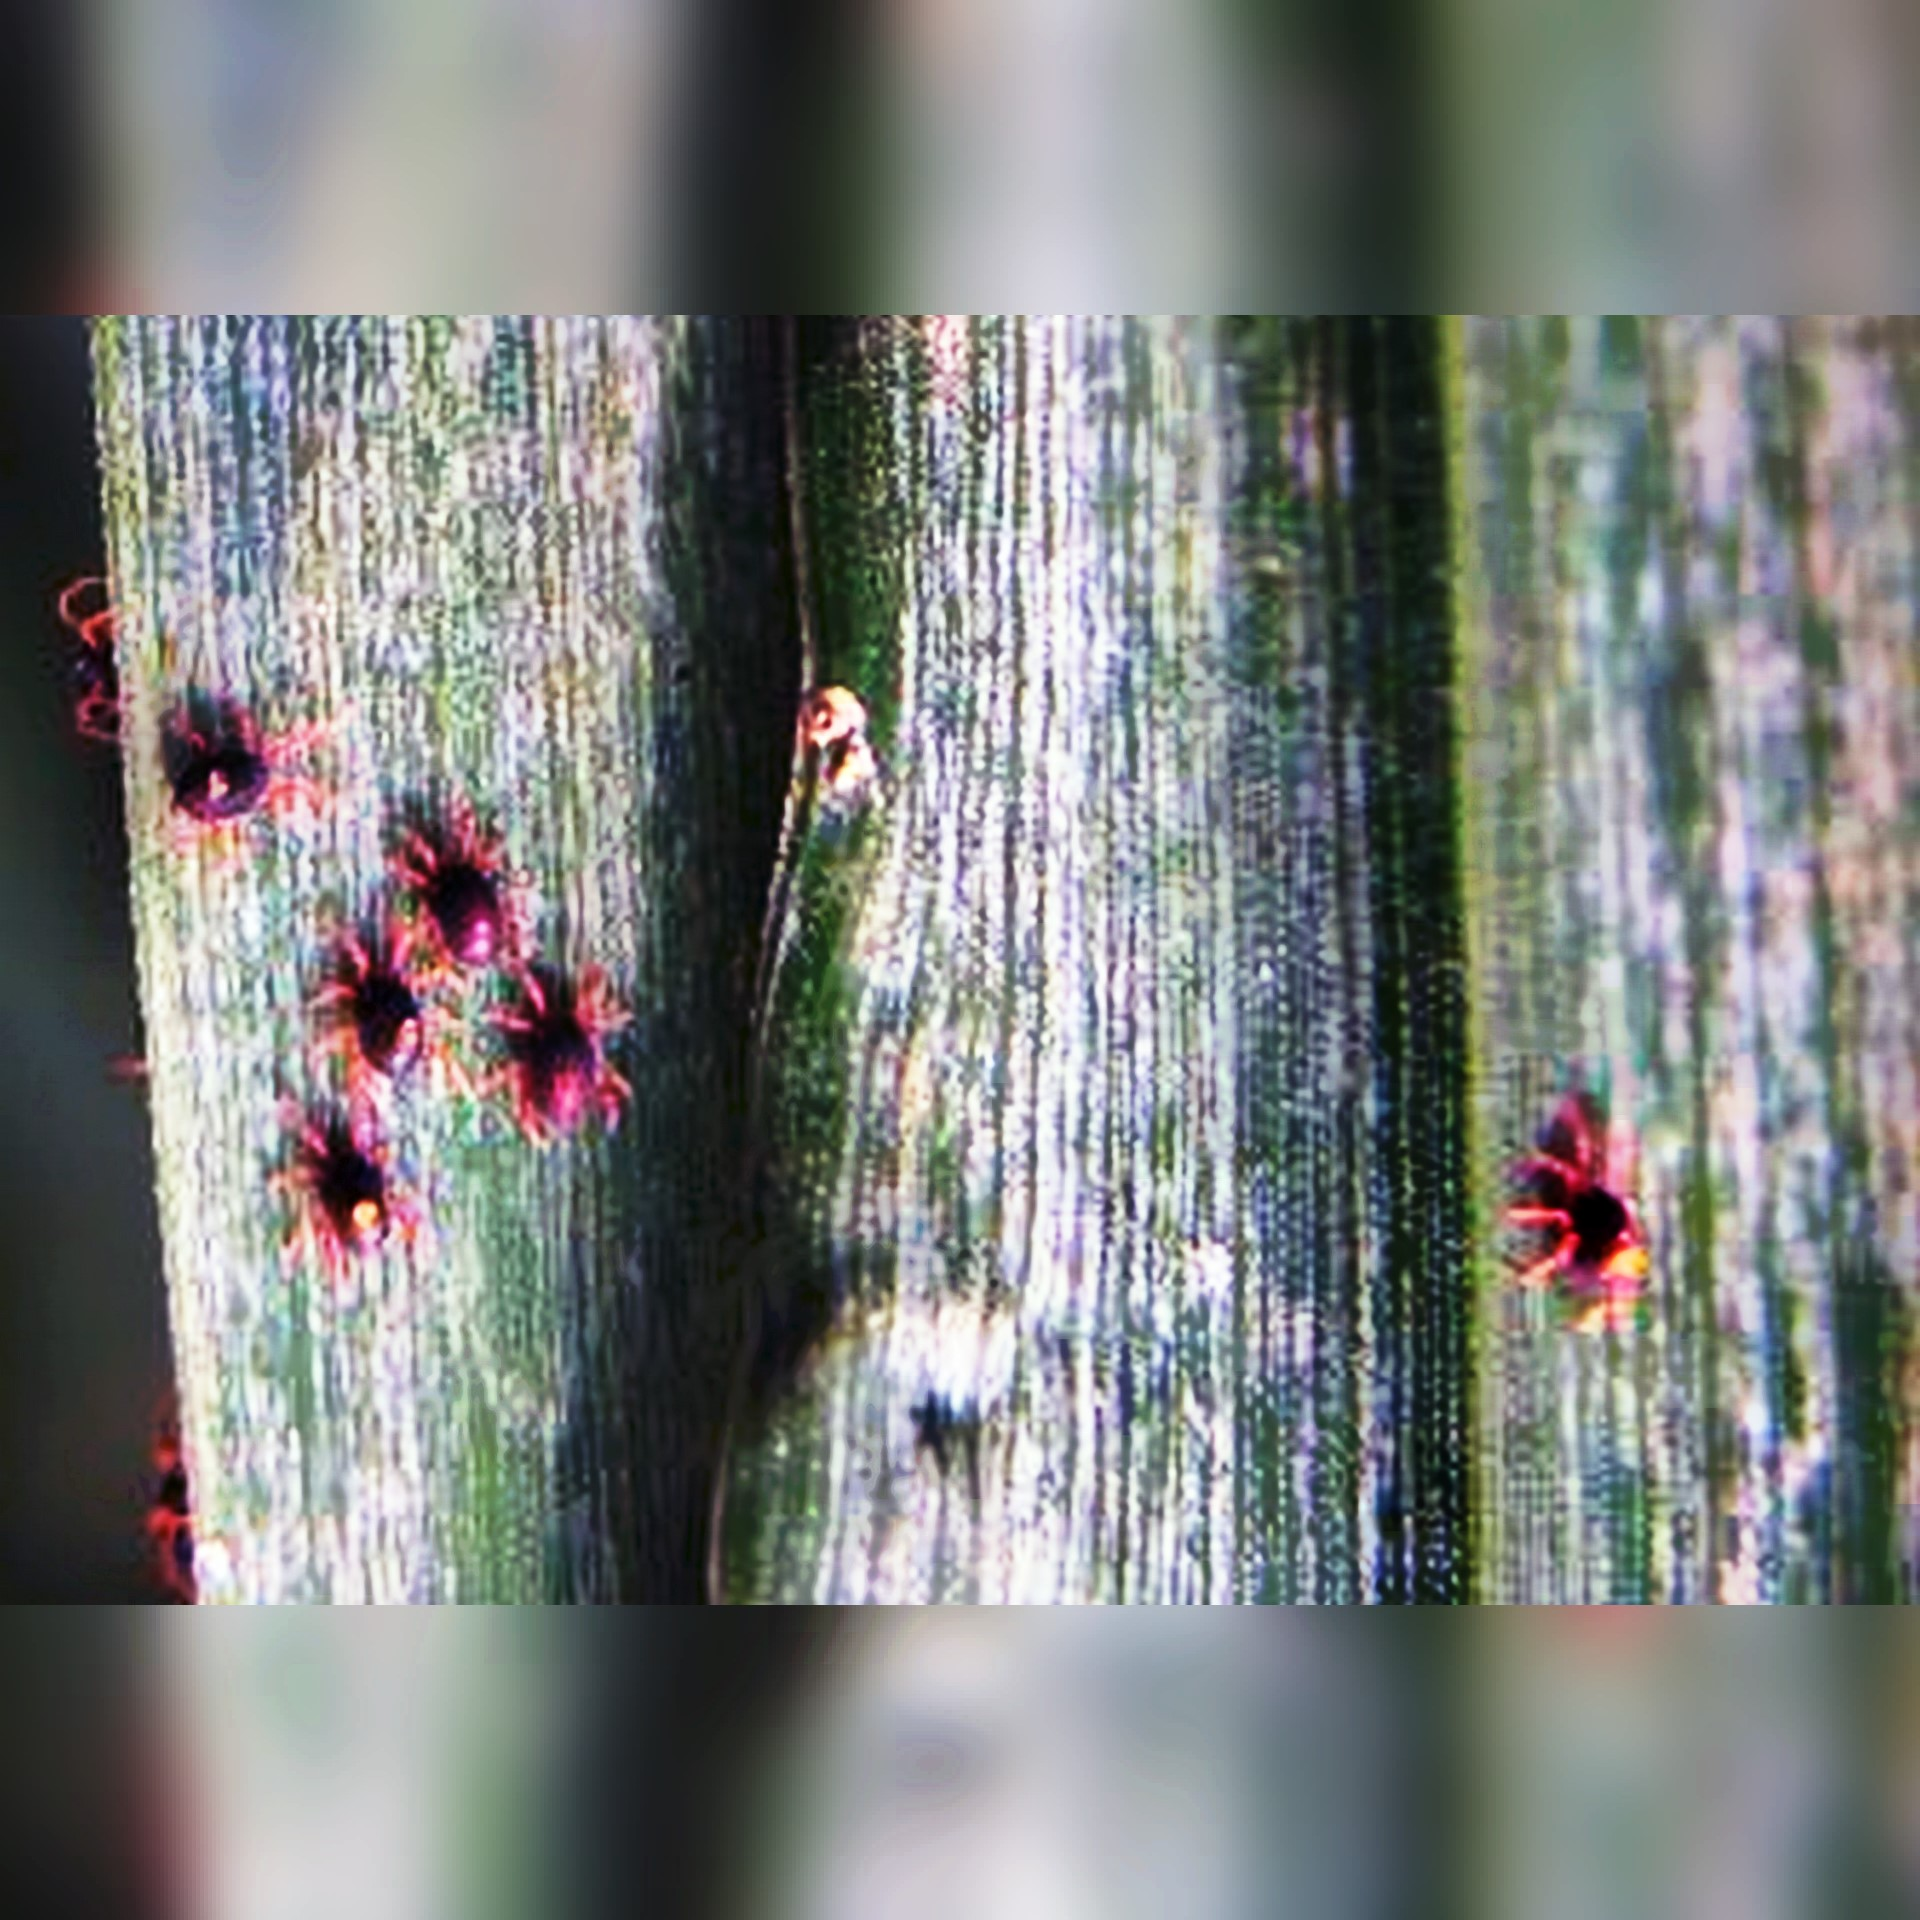Wheat Red Spider: (239, 789, 675, 1303)
